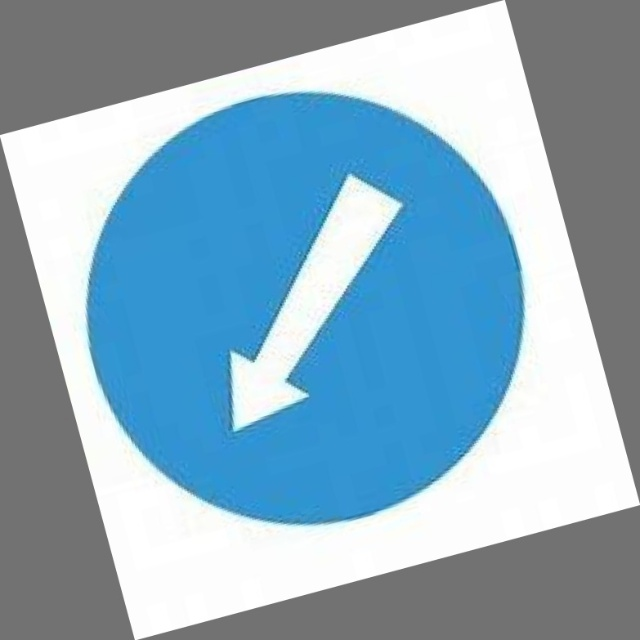R.301e: (27, 31, 594, 582)
